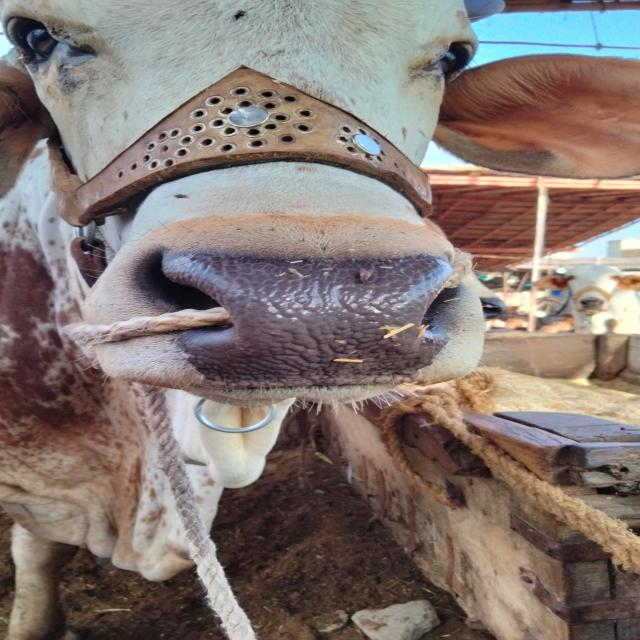muzzles: (131, 233, 481, 401)
